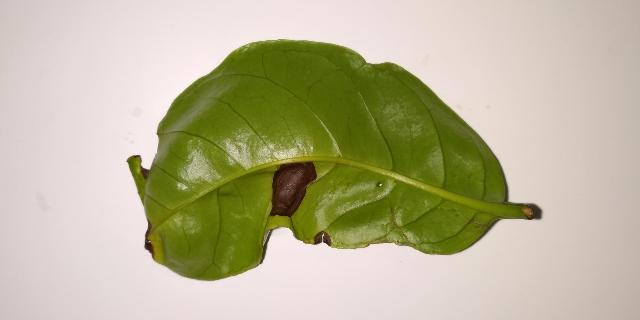rust: (270, 162, 317, 217), (145, 217, 154, 259), (309, 232, 331, 246)
